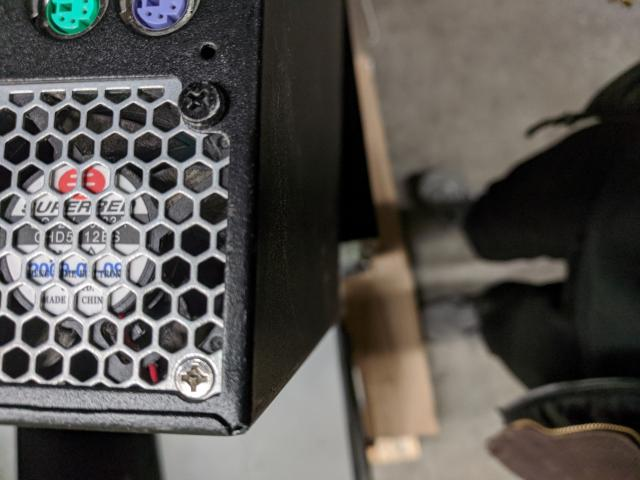CRS: (178, 80, 226, 126), (174, 356, 218, 399)
